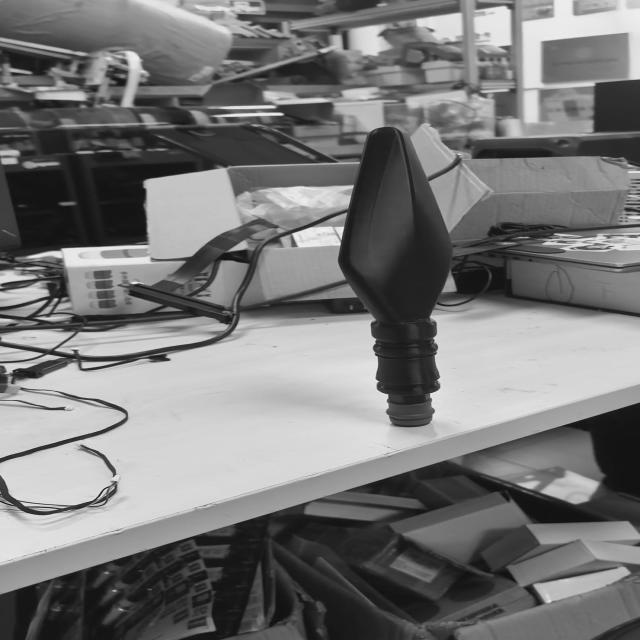base: (389, 400, 434, 426)
